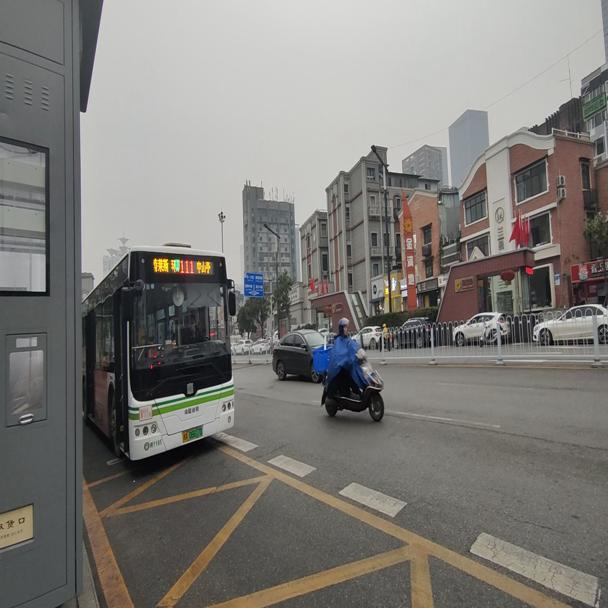bus: (83, 245, 238, 468)
screen: (178, 257, 195, 275)
